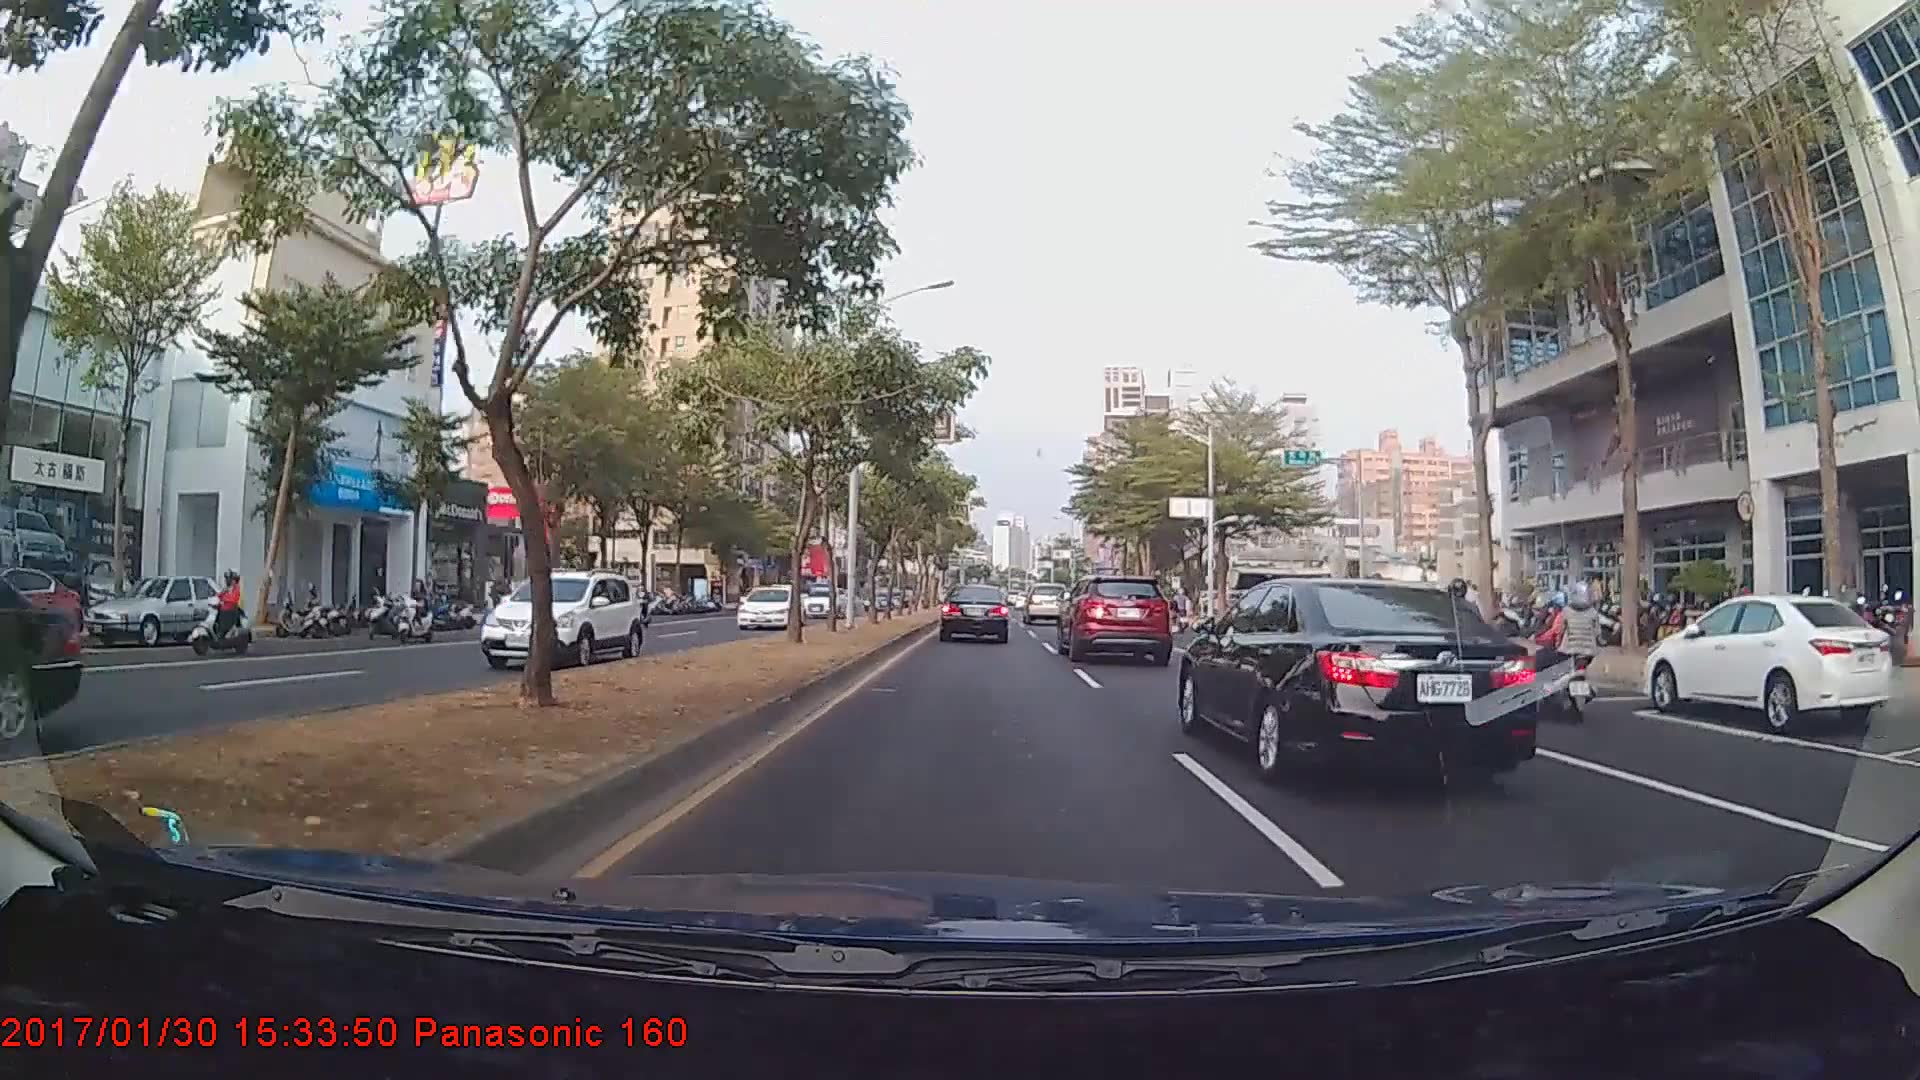rider: (1393, 572, 1480, 724), (1518, 584, 1602, 720), (178, 563, 256, 657)
vehicle: (1178, 564, 1527, 791), (1646, 590, 1892, 733), (472, 566, 644, 671), (82, 574, 245, 649), (1060, 575, 1172, 664), (0, 562, 82, 652), (939, 582, 1010, 644), (735, 585, 803, 629), (795, 586, 851, 617), (1023, 582, 1063, 624)
